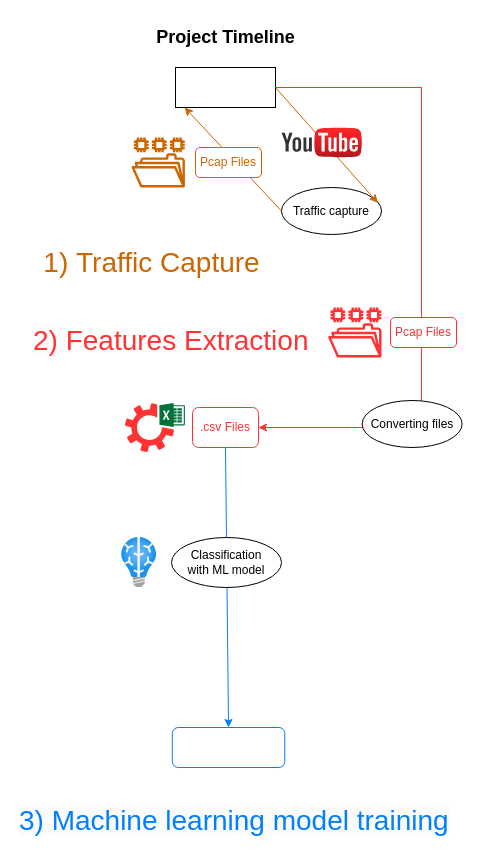
Some shapes in this 480 by 864 pixel diagram are drawn without their labels. Each missing label, with the centre of its shape:
"Result analysis" belongs at (x=228, y=747).
"UCSB Server" belongs at (x=225, y=87).
